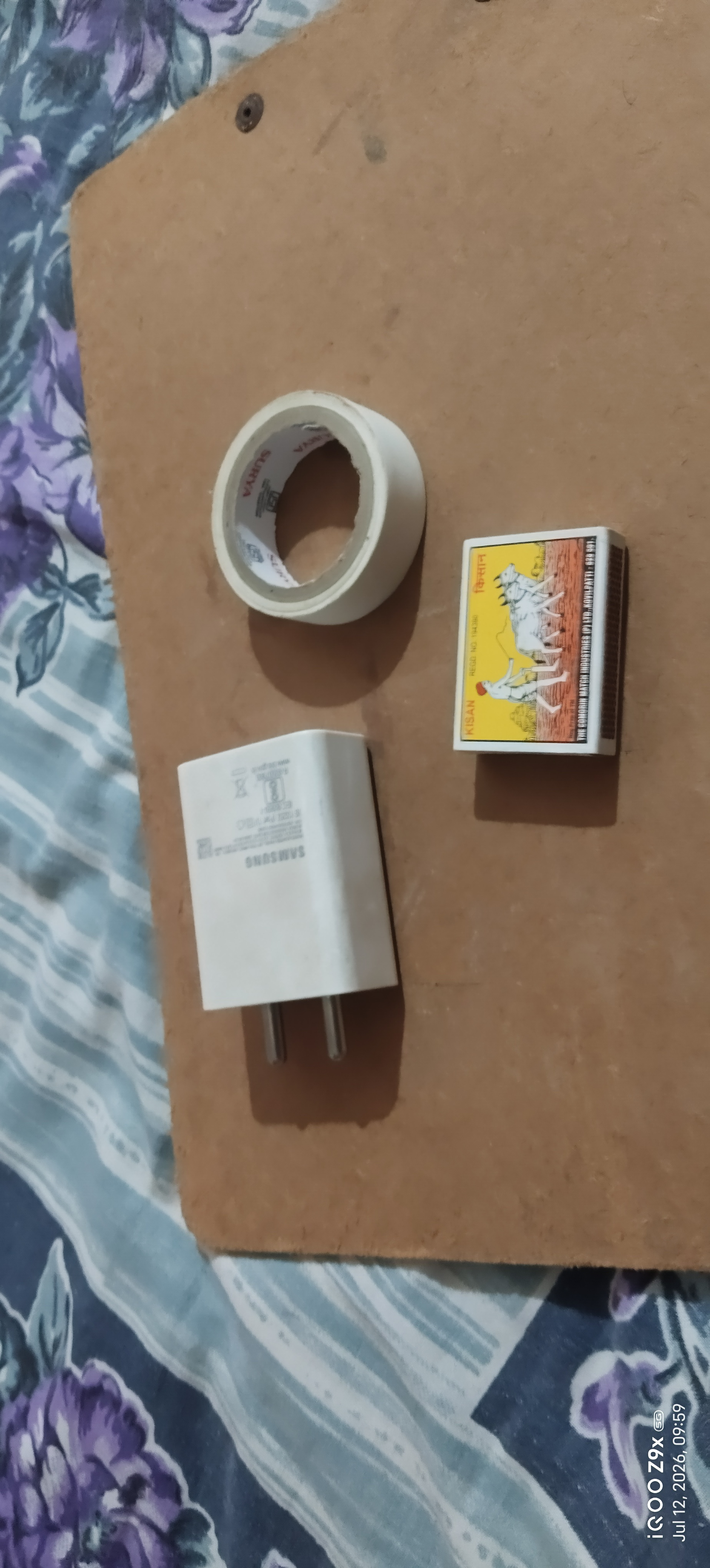charger: (165, 716, 417, 1096)
matchbox: (440, 510, 652, 788)
tape_roll: (191, 377, 449, 658)
